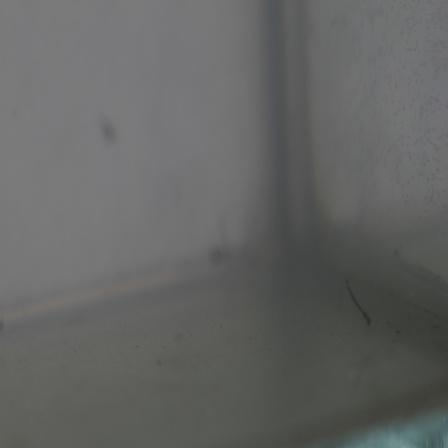Jentik-Nyamuk: (341, 278, 374, 327)
